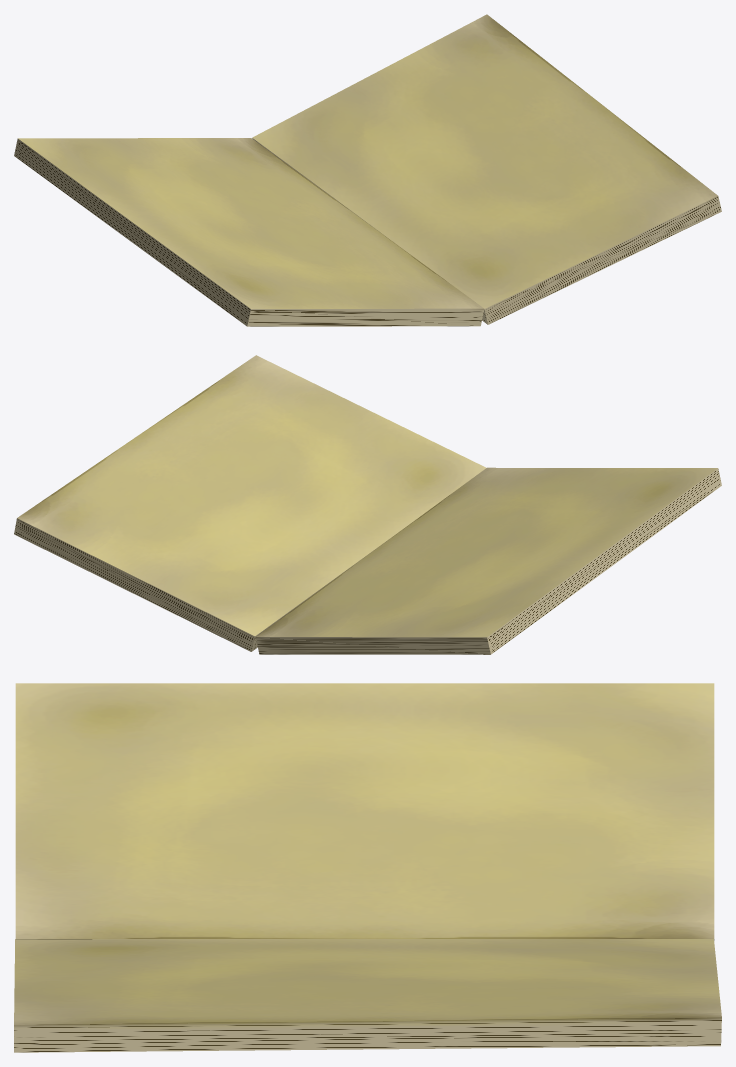
Rendered from diariofin.fbx.
The picture shows the model from 3 angles, top to bottom: view 1: azimuth 30°, elevation 25°; view 2: azimuth 150°, elevation 25°; view 3: azimuth 270°, elevation 25°; orthographic projection. The views are drawn at different scales.
Visible parts, largest first — view 1: Cubo.001; view 2: Cubo.001; view 3: Cubo.001.
Boxes of the visible parts, x1,y1,x2,y2 form: Cubo.001: (14, 14, 721, 326); Cubo.001: (14, 355, 721, 654); Cubo.001: (14, 683, 721, 1052).
Size of the model in its own units: 582 by 93.78 by 498.
2 materials, 2 textured.
